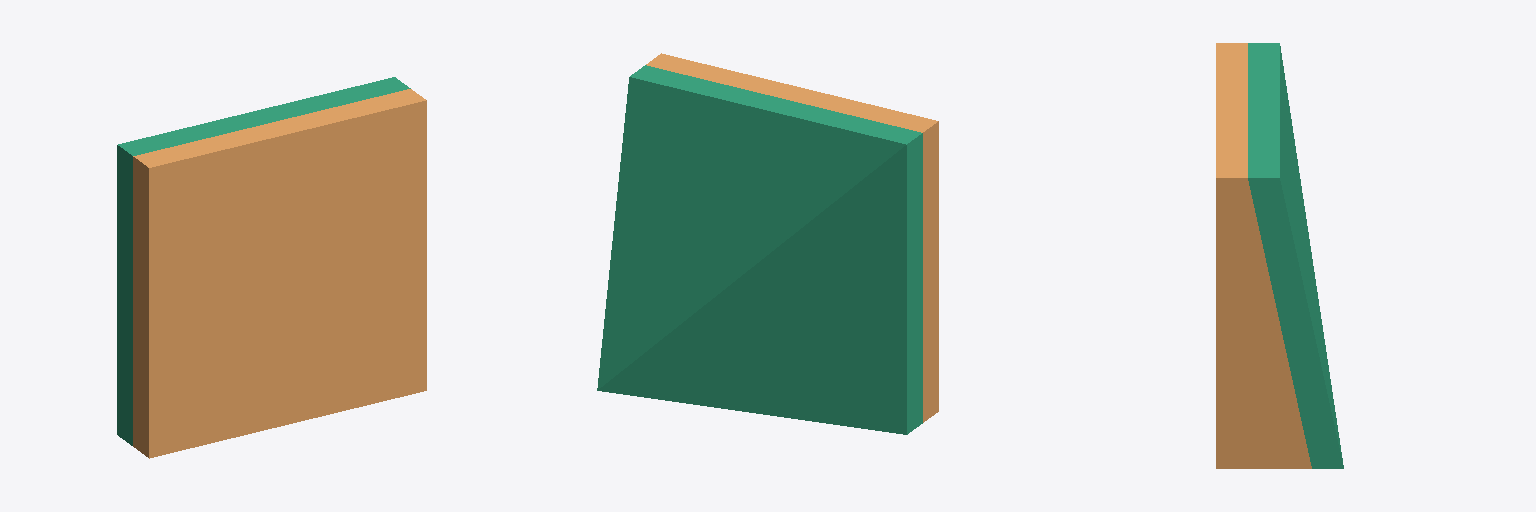
File: tile_cornerOuter.obj
3 renders of one model, left to right at view 1: azimuth 30°, elevation 25°; view 2: azimuth 150°, elevation 25°; view 3: azimuth 270°, elevation 25°, orthographic.
Visible parts, largest first — view 1: tile_cornerOuter; view 2: tile_cornerOuter; view 3: tile_cornerOuter.
Part boxes in pixels (x1,y1,x2,y2): tile_cornerOuter: (117, 77, 426, 458); tile_cornerOuter: (597, 53, 938, 434); tile_cornerOuter: (1216, 43, 1343, 468).
Bounding box in the file's own units: 1 × 1 × 0.4.